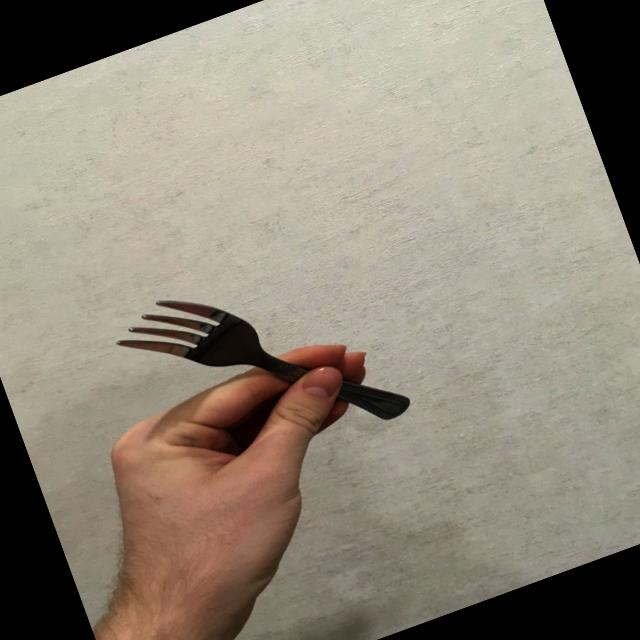fork: (104, 230, 416, 500)
